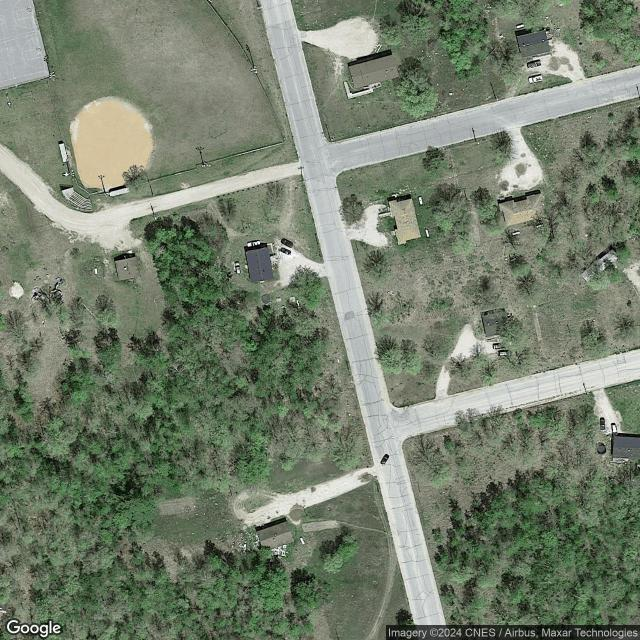Propane: (424, 227, 431, 239), (515, 22, 525, 30), (417, 195, 424, 206), (535, 222, 546, 229), (299, 536, 306, 546), (511, 230, 521, 237), (94, 266, 98, 275)
